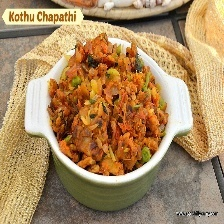sabzi: (42, 32, 171, 179)
